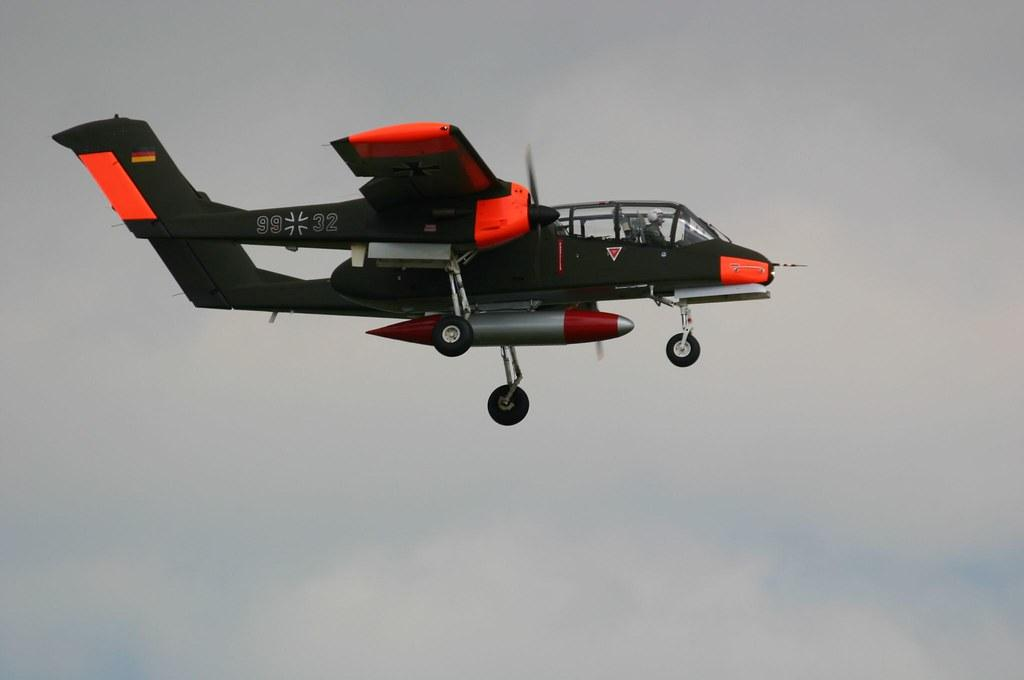plane: (51, 113, 808, 427)
